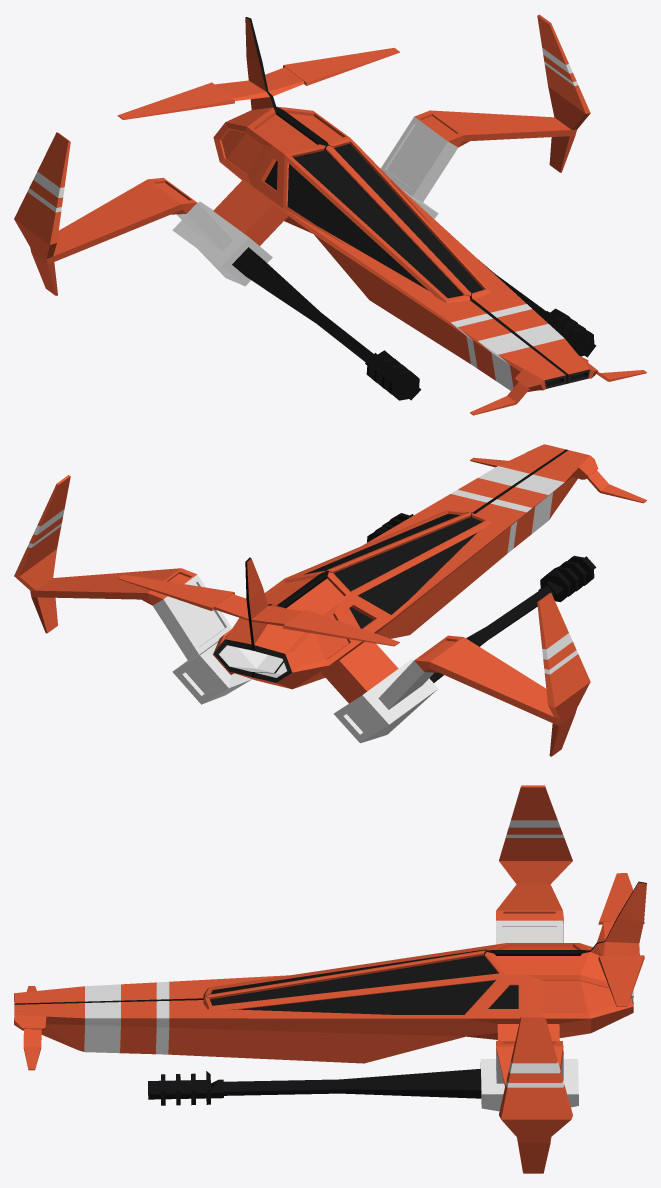
Rendered from ks_player_ship.fbx.
3 views of the same model, one above another, from view 1: azimuth 30°, elevation 25°; view 2: azimuth 150°, elevation 25°; view 3: azimuth 270°, elevation 25° (orthographic).
Parts seen in each view (by area): view 1: Cube; view 2: Cube; view 3: Cube.
Boxes of the visible parts, x1=… form: Cube: x1=14, y1=14, x2=646, y2=415; Cube: x1=14, y1=444, x2=646, y2=756; Cube: x1=14, y1=785, x2=646, y2=1173.
Size of the model in its own units: 984 by 345 by 1013.
